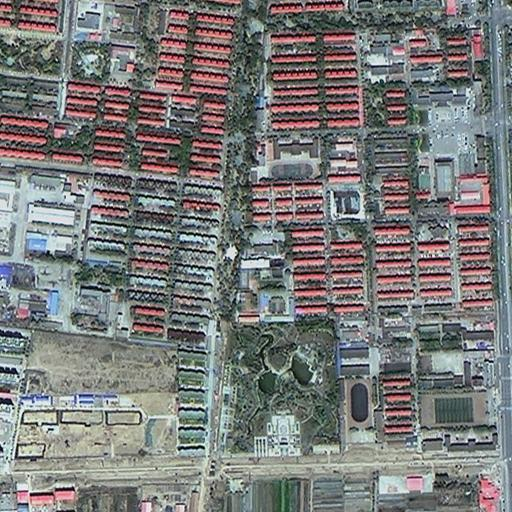school: (418, 351, 496, 453), (336, 348, 376, 443), (246, 134, 324, 181)
